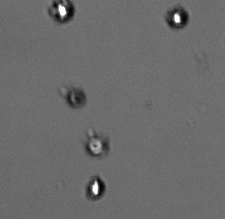Dead Cell: (66, 88, 86, 108)
Living Cell: (165, 5, 190, 29), (51, 1, 75, 24), (85, 176, 106, 200), (86, 135, 106, 157)
